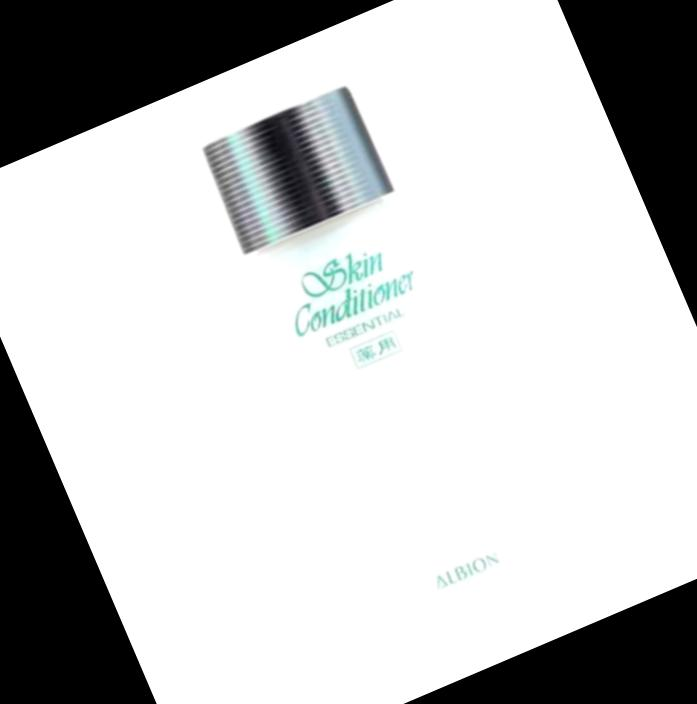cosmetic: (189, 79, 564, 652)
